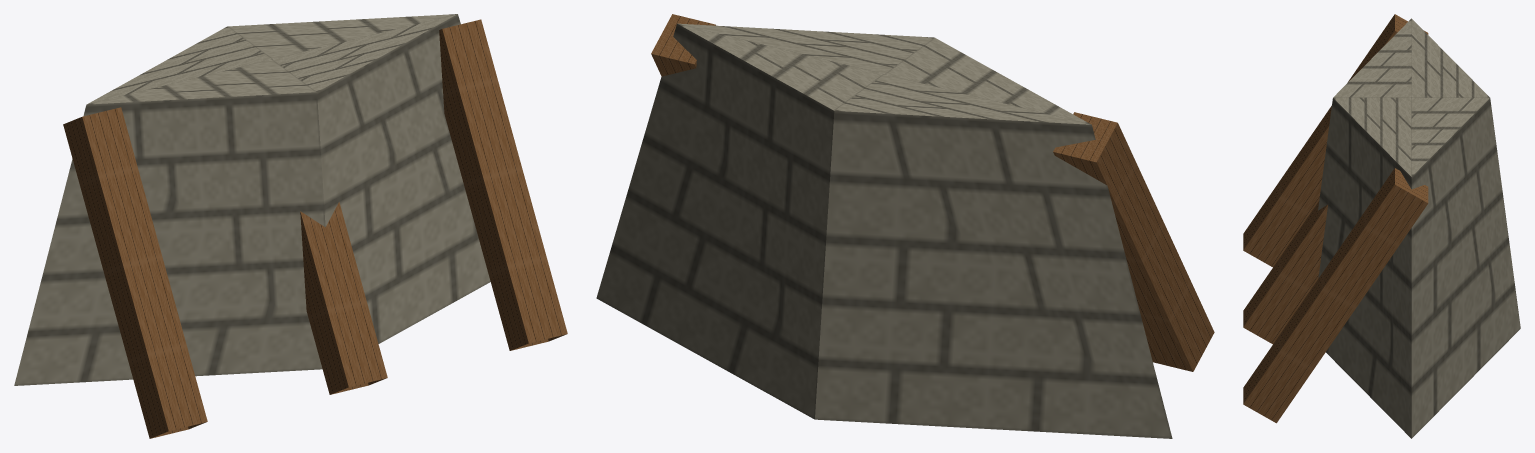
File: military-DAM-1-lod0.glb
3 renders of one model, left to right at view 1: azimuth 30°, elevation 25°; view 2: azimuth 150°, elevation 25°; view 3: azimuth 270°, elevation 25°, orthographic. The views are drawn at different scales.
Size of the model in its own units: 0.86 by 0.4372 by 0.4576.
1 material, 1 textured.
